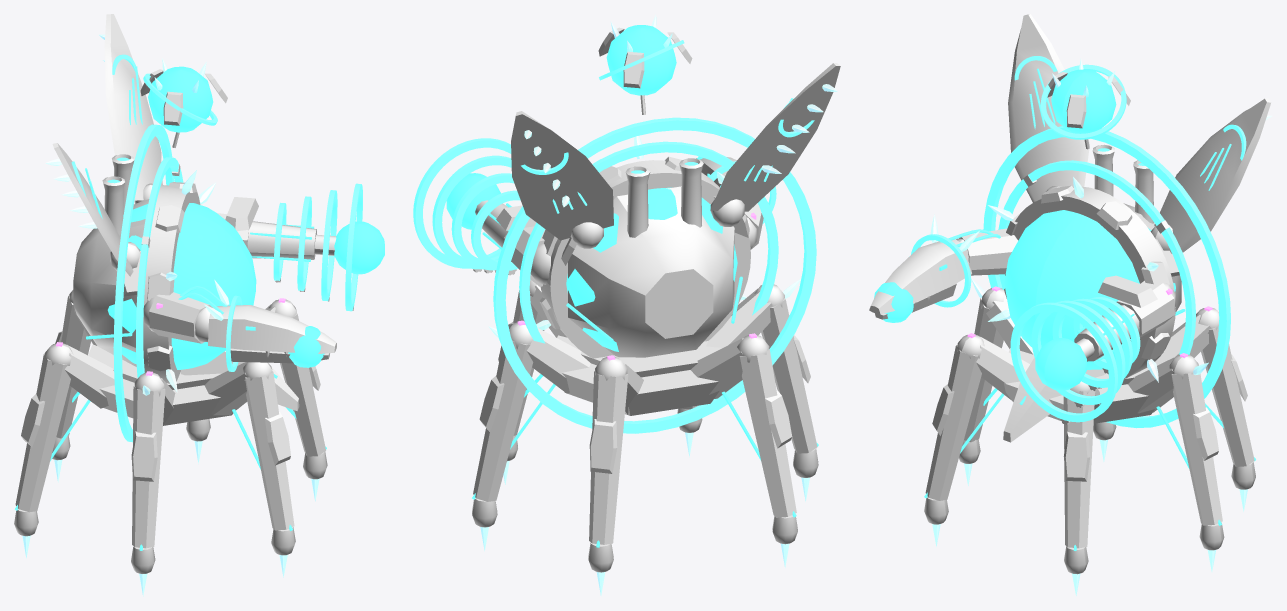
Rendered from sentinelle.glb.
3 renders of one model, left to right at view 1: azimuth 30°, elevation 25°; view 2: azimuth 150°, elevation 25°; view 3: azimuth 270°, elevation 25°, orthographic. The views are drawn at different scales.
Visible parts, largest first — view 1: se3__se_blind, se3__se_blind2, se3__se_halo, se3__se_anneau, se3__se_canon, se3__se_struct, se3__se_cristal, se3__se_conduit, se3__se_conduit_turq; view 2: se3__se_blind2, se3__se_blind, se3__se_anneau, se3__se_halo, se3__se_canon, se3__se_struct, se3__se_cristal, se3__se_conduit; view 3: se3__se_blind, se3__se_anneau, se3__se_blind2, se3__se_halo, se3__se_canon, se3__se_struct, se3__se_cristal, se3__se_conduit_turq, se3__se_conduit.
Boxes of the visible parts, x1=… form: se3__se_blind: x1=21, y1=14, x2=336, y2=481; se3__se_blind2: x1=15, y1=182, x2=329, y2=548; se3__se_halo: x1=107, y1=66, x2=384, y2=369; se3__se_anneau: x1=71, y1=54, x2=362, y2=442; se3__se_canon: x1=14, y1=154, x2=327, y2=573; se3__se_struct: x1=44, y1=132, x2=353, y2=396; se3__se_cristal: x1=22, y1=34, x2=319, y2=596; se3__se_conduit: x1=15, y1=223, x2=326, y2=550; se3__se_conduit_turq: x1=85, y1=66, x2=227, y2=314; se3__se_blind2: x1=473, y1=156, x2=817, y2=544; se3__se_blind: x1=479, y1=27, x2=840, y2=473; se3__se_anneau: x1=413, y1=40, x2=816, y2=433; se3__se_halo: x1=446, y1=25, x2=737, y2=351; se3__se_canon: x1=472, y1=158, x2=818, y2=572; se3__se_struct: x1=473, y1=95, x2=784, y2=380; se3__se_cristal: x1=480, y1=15, x2=837, y2=595; se3__se_conduit: x1=472, y1=173, x2=818, y2=547; se3__se_blind: x1=869, y1=14, x2=1270, y2=481; se3__se_anneau: x1=911, y1=56, x2=1246, y2=428; se3__se_blind2: x1=875, y1=185, x2=1254, y2=548; se3__se_halo: x1=874, y1=69, x2=1175, y2=390; se3__se_canon: x1=924, y1=144, x2=1255, y2=574; se3__se_struct: x1=956, y1=139, x2=1219, y2=424; se3__se_cristal: x1=930, y1=59, x2=1272, y2=595; se3__se_conduit_turq: x1=940, y1=68, x2=1231, y2=247; se3__se_conduit: x1=909, y1=256, x2=1255, y2=550.
Bounding box in the file's own units: 24.83 × 30.75 × 24.37.
